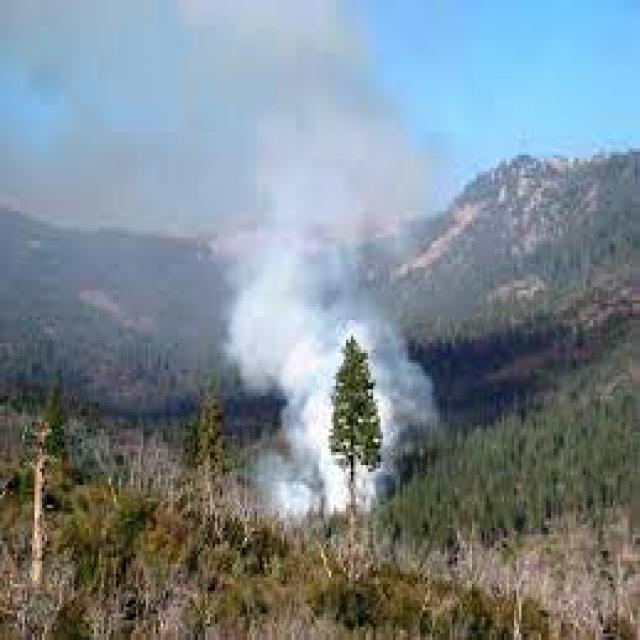Smoke: (223, 246, 446, 468), (223, 190, 333, 534)
